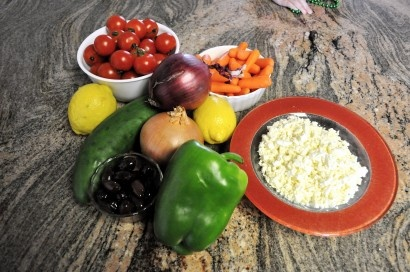background: (43, 6, 176, 108), (72, 41, 236, 88)
